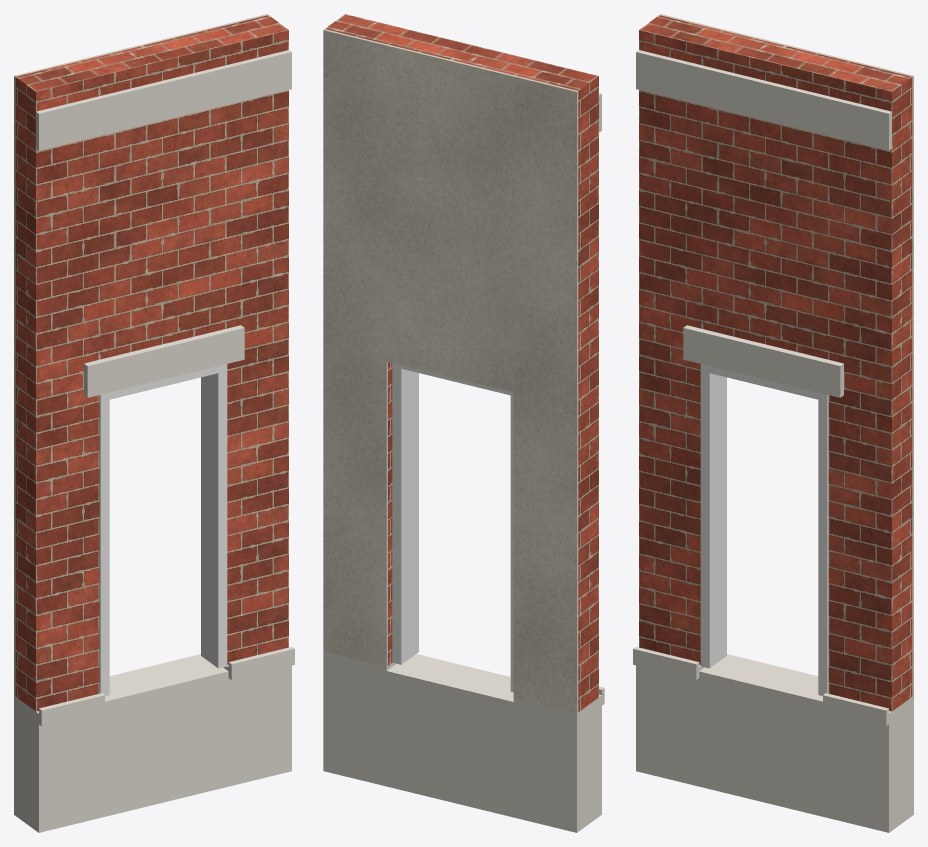
The model's file is wall_backdoor.glb.
3 views of the same model, side by side, from view 1: azimuth 30°, elevation 25°; view 2: azimuth 150°, elevation 25°; view 3: azimuth 330°, elevation 25° (orthographic).
Parts seen in each view (by area): view 1: wall_backdoor_brick, wall_backdoor_lime, wall_backdoor_frame, wall_backdoor_plaster; view 2: wall_backdoor_plaster, wall_backdoor_lime, wall_backdoor_brick, wall_backdoor_frame; view 3: wall_backdoor_brick, wall_backdoor_lime, wall_backdoor_frame, wall_backdoor_plaster.
Part boxes in pixels (box(x1,y1,x2,y2)): wall_backdoor_brick: box(15, 15, 288, 711); wall_backdoor_lime: box(14, 50, 294, 832); wall_backdoor_frame: box(99, 364, 227, 695); wall_backdoor_plaster: box(14, 14, 267, 696); wall_backdoor_plaster: box(323, 29, 578, 713); wall_backdoor_lime: box(323, 93, 604, 832); wall_backdoor_brick: box(325, 14, 598, 711); wall_backdoor_frame: box(392, 363, 513, 692); wall_backdoor_brick: box(639, 15, 912, 711); wall_backdoor_lime: box(633, 50, 913, 832); wall_backdoor_frame: box(700, 364, 828, 695); wall_backdoor_plaster: box(660, 14, 913, 696).
Size of the model in its own units: 2 by 5.58 by 0.38.
Materials: 4 (2 with a texture image).
